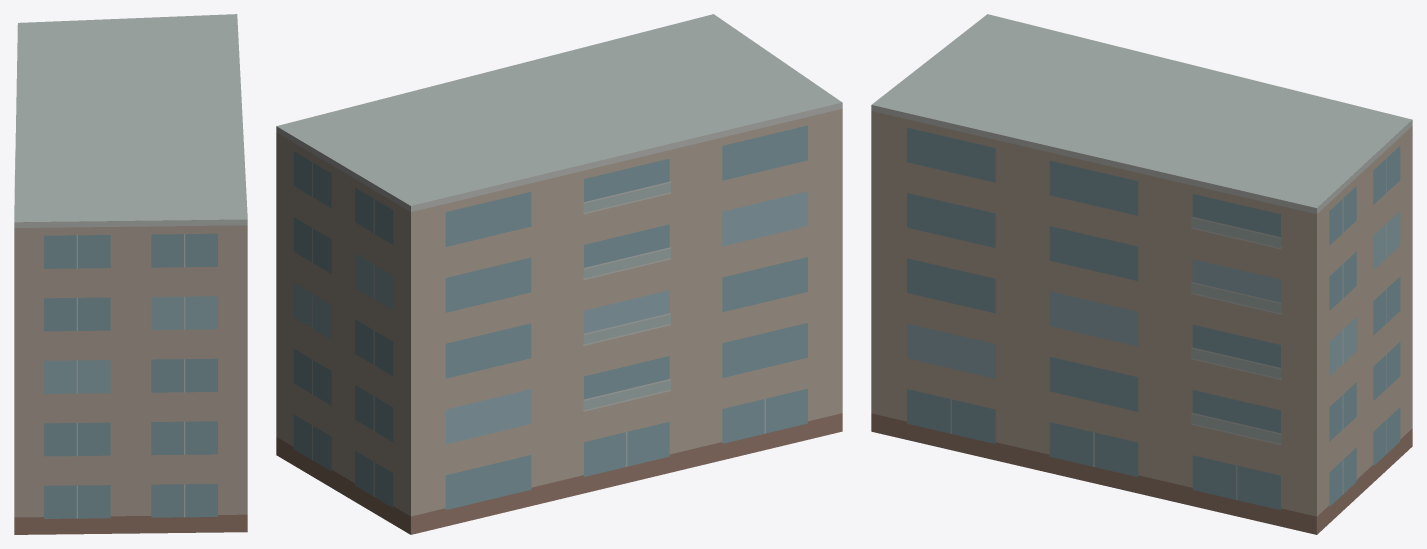
The model's file is survey-upis-32460459.glb.
The picture shows the model from 3 angles, left to right: view 1: azimuth 30°, elevation 25°; view 2: azimuth 150°, elevation 25°; view 3: azimuth 270°, elevation 25°; orthographic projection. The views are drawn at different scales.
Visible parts, largest first — view 1: survey-upis-32460459.tmp; view 2: survey-upis-32460459.tmp; view 3: survey-upis-32460459.tmp.
Part boxes in pixels (x1=…): survey-upis-32460459.tmp: x1=14, y1=14, x2=247, y2=534; survey-upis-32460459.tmp: x1=276, y1=14, x2=842, y2=534; survey-upis-32460459.tmp: x1=871, y1=14, x2=1412, y2=534.
Bounding box in the file's own units: 16.57 × 13 × 19.52.
